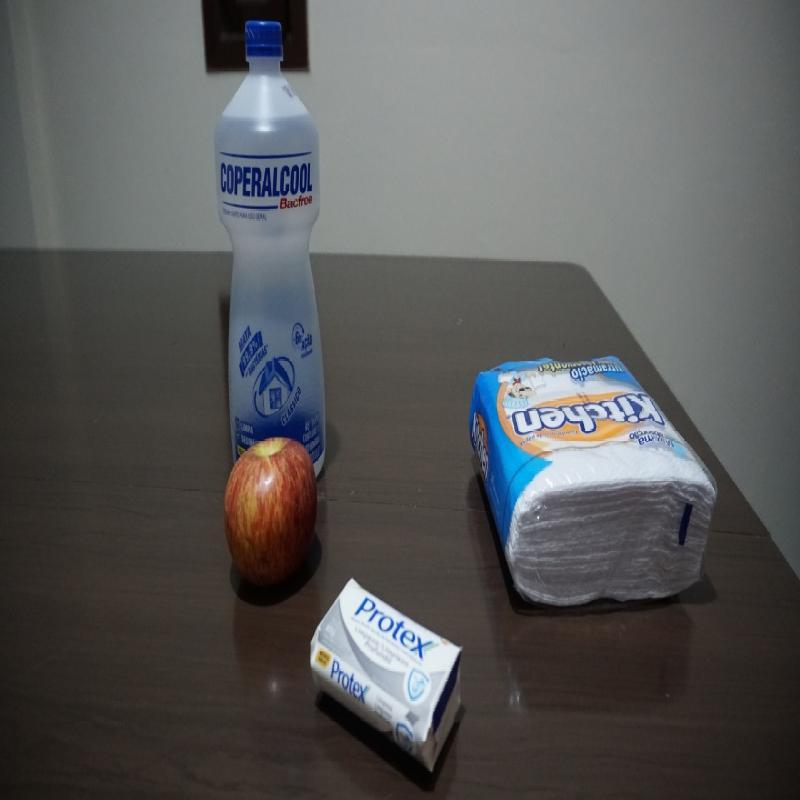Alcohol Bottle: (216, 18, 332, 479)
Apple: (216, 444, 316, 575)
Napkin: (464, 351, 718, 603)
Soap: (310, 581, 460, 763)
